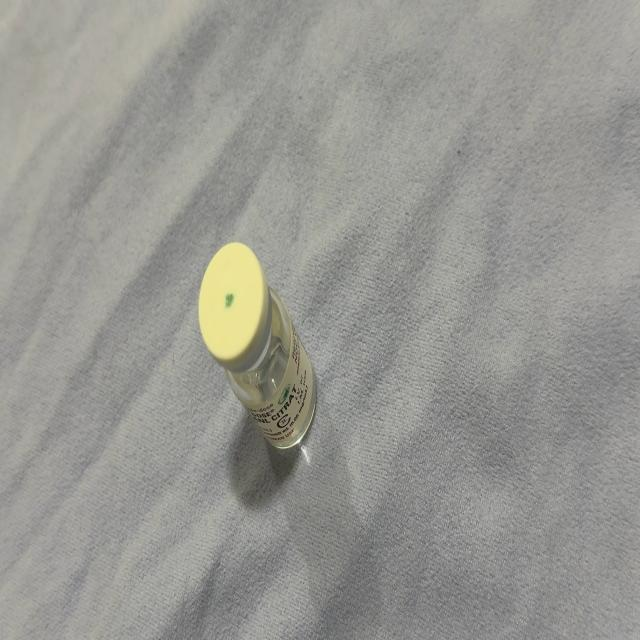fentanl_citrat: (200, 245, 315, 448)
